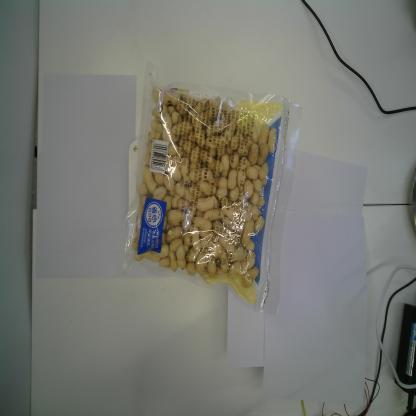Dried Food: (116, 60, 303, 317)
